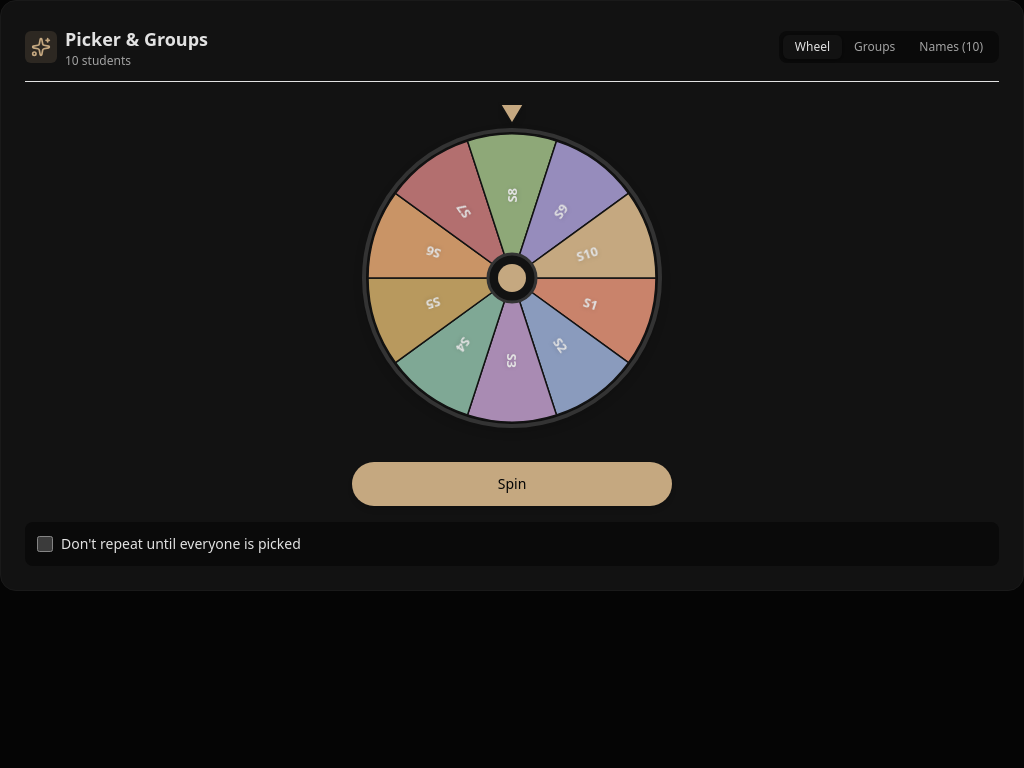
Test case: ClassroomPicker (SDD/2026-10-03_06-sorteador-de-alunos-e-grupos.md) › CT04 / CA04: divides 10 students into 3 groups of 4, 3, 3; shuffle again re-partitions; copy groups works
Navigate to Groups tab
Step 1. Click the tab "Groups" → [875, 47], box [842,35,907,59]
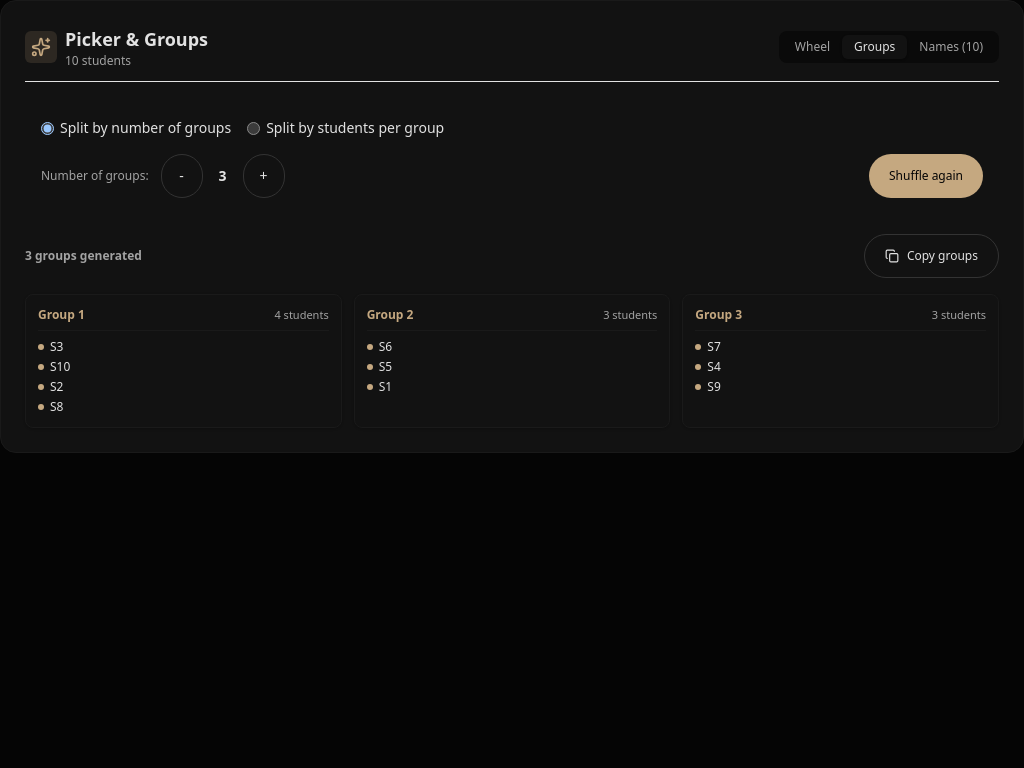
Check: the text "Group 1" is shown, box [38,307,85,323]
Check: the text "Group 2" is shown, box [367,307,414,323]
Check: the text "Group 3" is shown, box [695,307,742,323]
Shuffle again
Step 2. Click the button "Shuffle again" → [926, 176], box [869,154,983,198]
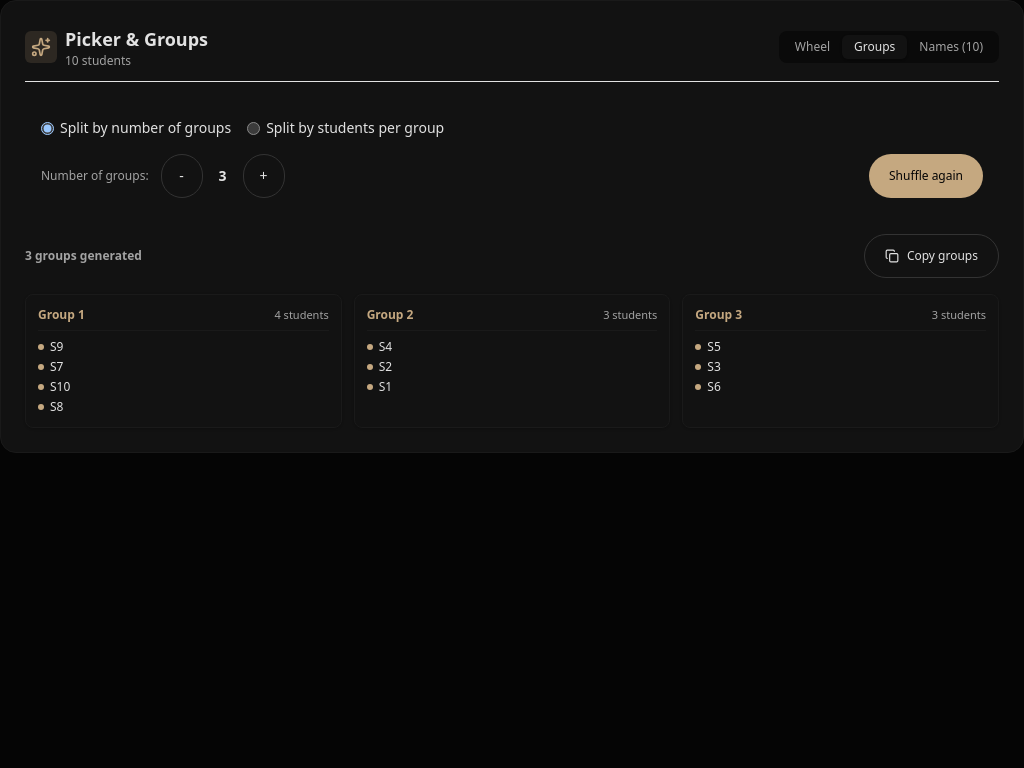
Check "Copy groups"
Step 3. Click the button "Copy groups" → [931, 256], box [864,234,999,278]
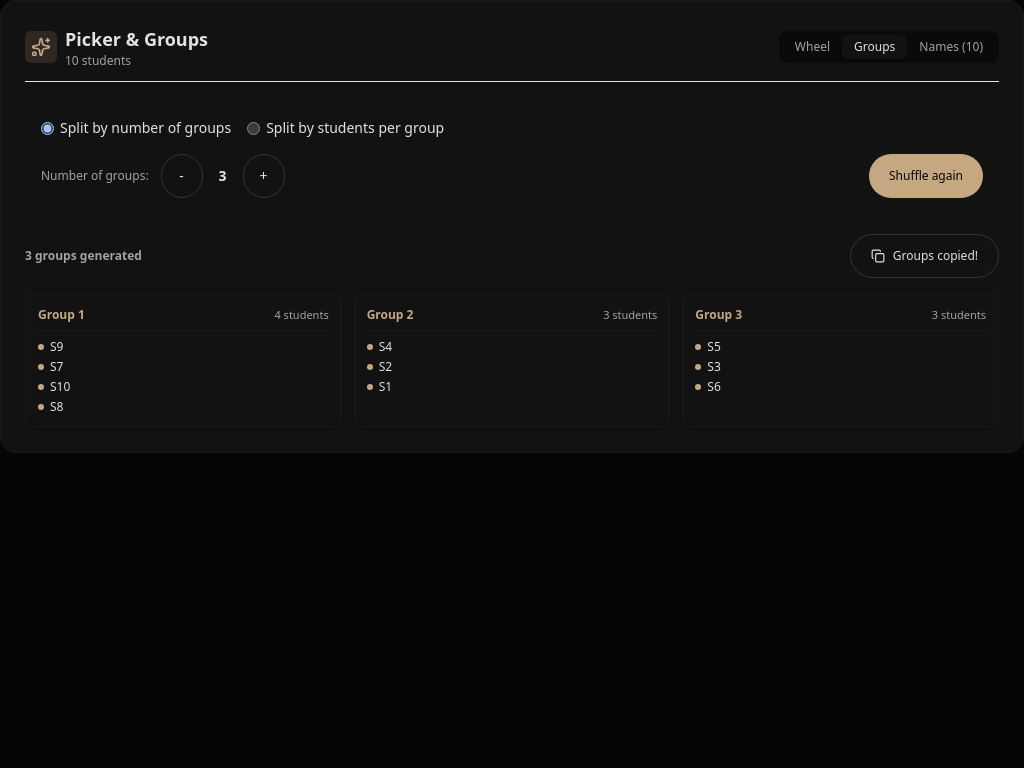
Check: the button "Groups copied!" is shown, box [850,234,999,278]
